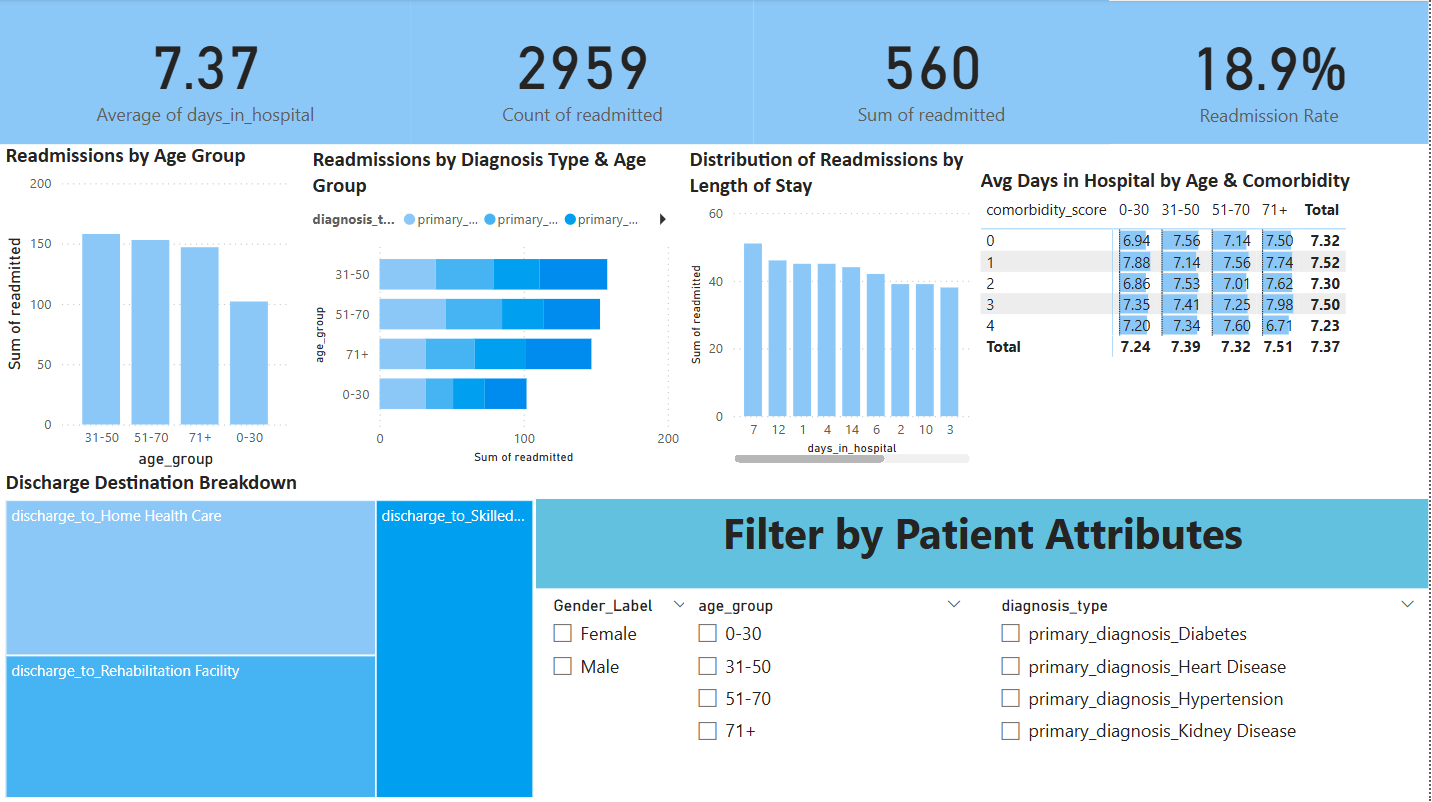

What the dashboard file says about the page in this screenshot:
{"tool":"powerbi","page":{"name":"Page 1","canvas":[1280,720],"ordinal":0},"visuals":[{"type":"clusteredColumnChart","title":"Readmissions by Age Group","fields":{"Category":["cleaned_data.age_group"],"Y":["Sum(cleaned_data.readmitted)"]},"box":[0,128,264,296],"z":0},{"type":"barChart","title":"Readmissions by Diagnosis Type & Age Group","fields":{"Category":["cleaned_data.age_group"],"Y":["Sum(cleaned_data.readmitted)"],"Series":["cleaned_data.diagnosis_type"]},"box":[274.5,131.9,338.1,288.9],"z":1000},{"type":"card","fields":{"Values":["CountNonNull(cleaned_data.readmitted)"]},"box":[367.9,0,307.2,130],"z":2000},{"type":"card","fields":{"Values":["Sum(cleaned_data.readmitted)"]},"box":[675.2,0,317.8,130],"z":3000},{"type":"card","fields":{"Values":["cleaned_data.Readmission Rate"]},"box":[993.1,1.8,286.6,128.1],"z":4000},{"type":"card","fields":{"Values":["Avg(cleaned_data.days_in_hospital)"]},"box":[0,0,367.9,130],"z":5000},{"type":"clusteredColumnChart","title":"Distribution of Readmissions by Length of Stay","fields":{"Category":["cleaned_data.days_in_hospital"],"Y":["Sum(cleaned_data.readmitted)"]},"box":[612.6,131.9,261,288.9],"z":6000},{"type":"treemap","title":"Discharge Destination Breakdown","fields":{"Group":["cleaned_data.discharge_type"],"Values":["Sum(cleaned_data.readmitted)"]},"box":[0,420.9,482.5,299.5],"z":7000},{"type":"slicer","fields":{"Values":["cleaned_data.Gender_Label"]},"box":[482.5,529.7,145.4,190.7],"z":8000},{"type":"slicer","fields":{"Values":["cleaned_data.age_group"]},"box":[612.6,529.7,261,190.7],"z":9000},{"type":"slicer","fields":{"Values":["cleaned_data.diagnosis_type"]},"box":[884.2,529.7,395.8,190.7],"z":10000},{"type":"pivotTable","title":"Avg Days in Hospital by Age & Comorbidity","fields":{"Rows":["cleaned_data.comorbidity_score"],"Columns":["cleaned_data.age_group"],"Values":["Avg(cleaned_data.days_in_hospital)"]},"box":[873.6,150.2,406.4,269.7],"z":11000},{"type":"textbox","box":[480,448,800,80],"z":11002}]}

Visuals, with their boxes in screenshot pixels (x1, y1, x2, y2), scaled from the page's 1280x720 canvas onto the 1432x802 screenshot:
"Readmissions by Age Group" clusteredColumnChart: select_region(0, 143, 295, 472)
"Readmissions by Diagnosis Type & Age Group" barChart: select_region(307, 147, 685, 469)
card - CountNonNull(cleaned_data.readmitted): select_region(412, 0, 755, 145)
card - Sum(cleaned_data.readmitted): select_region(755, 0, 1111, 145)
card - cleaned_data.Readmission Rate: select_region(1111, 2, 1431, 145)
card - Avg(cleaned_data.days_in_hospital): select_region(0, 0, 412, 145)
"Distribution of Readmissions by Length of Stay" clusteredColumnChart: select_region(685, 147, 977, 469)
"Discharge Destination Breakdown" treemap: select_region(0, 469, 540, 801)
slicer - cleaned_data.Gender_Label: select_region(540, 590, 702, 801)
slicer - cleaned_data.age_group: select_region(685, 590, 977, 801)
slicer - cleaned_data.diagnosis_type: select_region(989, 590, 1431, 801)
"Avg Days in Hospital by Age & Comorbidity" pivotTable: select_region(977, 167, 1431, 468)
textbox: select_region(537, 499, 1431, 588)
